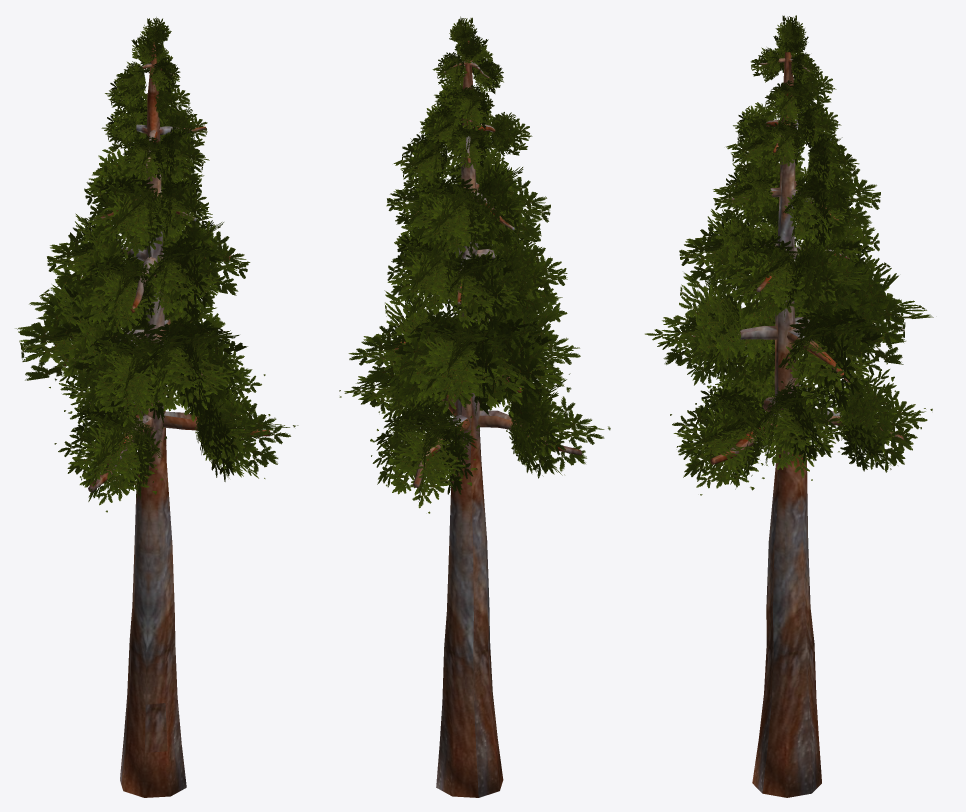
Rendered from earth3d3-hyperion-redwood.glb.
3 renders of one model, left to right at view 1: azimuth 30°, elevation 25°; view 2: azimuth 150°, elevation 25°; view 3: azimuth 270°, elevation 25°, orthographic.
Visible parts, largest first — view 1: Object_6, Object_4; view 2: Object_6, Object_4; view 3: Object_6, Object_4.
Boxes of the visible parts, <box> form: Object_6: <box>15,17,298,512</box>; Object_4: <box>64,42,270,797</box>; Object_6: <box>339,16,610,513</box>; Object_4: <box>383,40,581,797</box>; Object_6: <box>645,15,933,495</box>; Object_4: <box>693,52,903,797</box>.
Size of the model in its own units: 8.29 by 24.29 by 8.87.
Materials: 2 (2 with a texture image).
